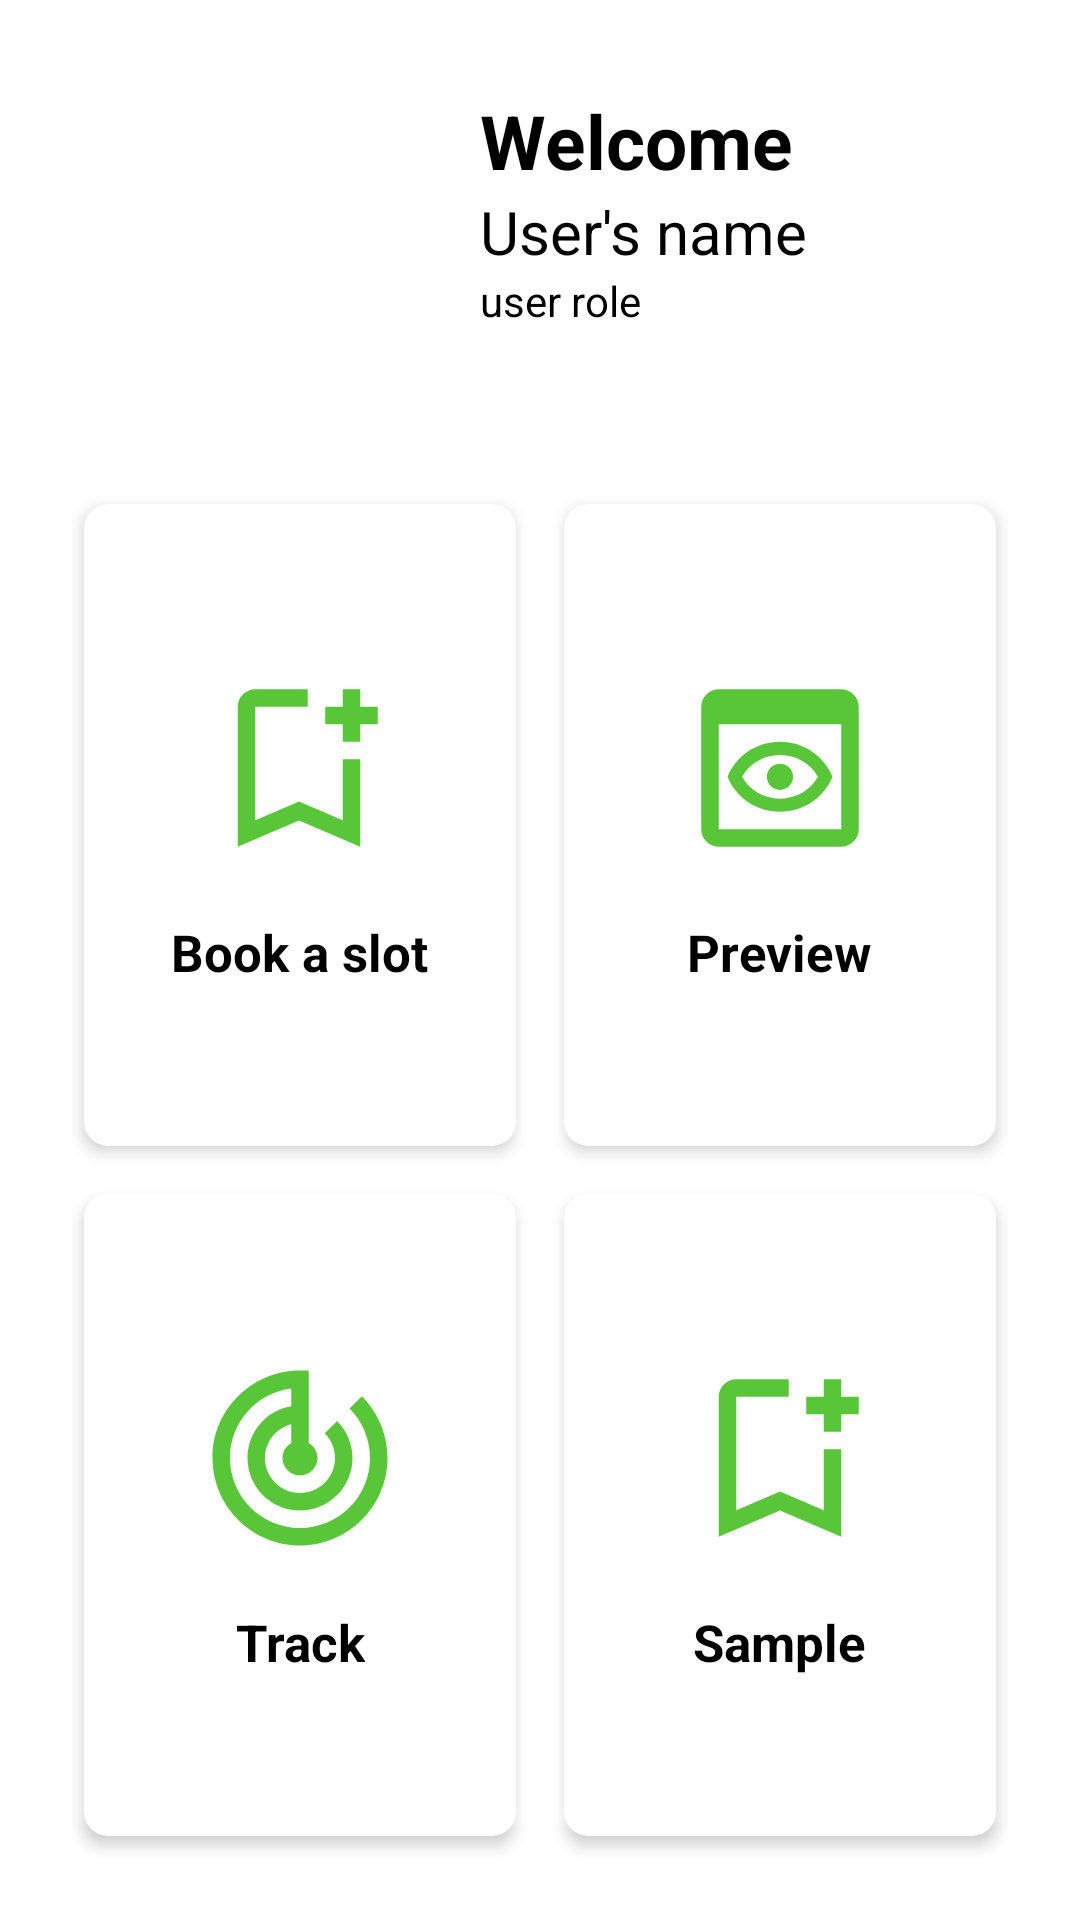

Locate icon controls on the screen. Image size 1080 × 1920, boxes as (x1, y1, x2, y2).
booking: (237, 689, 378, 847), (718, 1379, 859, 1537)
